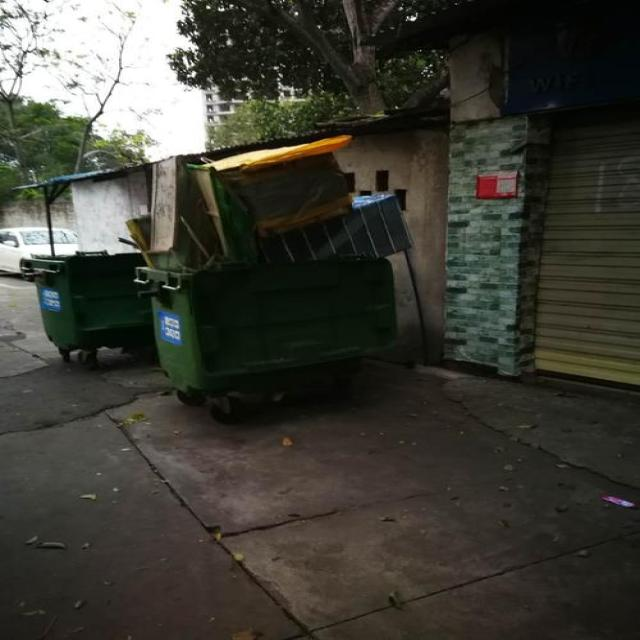garbage_bin: (17, 250, 150, 346)
overflow: (116, 134, 410, 394)
